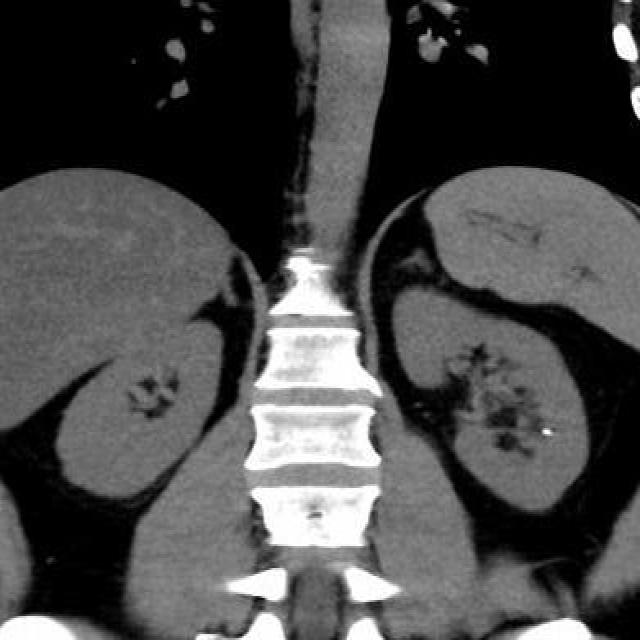Tas_Var: (541, 425, 554, 439)
